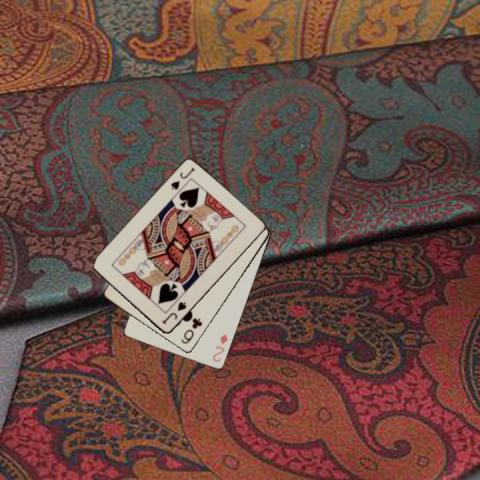2d: (210, 331, 229, 364)
6c: (178, 316, 204, 346)
Js: (159, 299, 188, 326), (168, 165, 196, 191)
